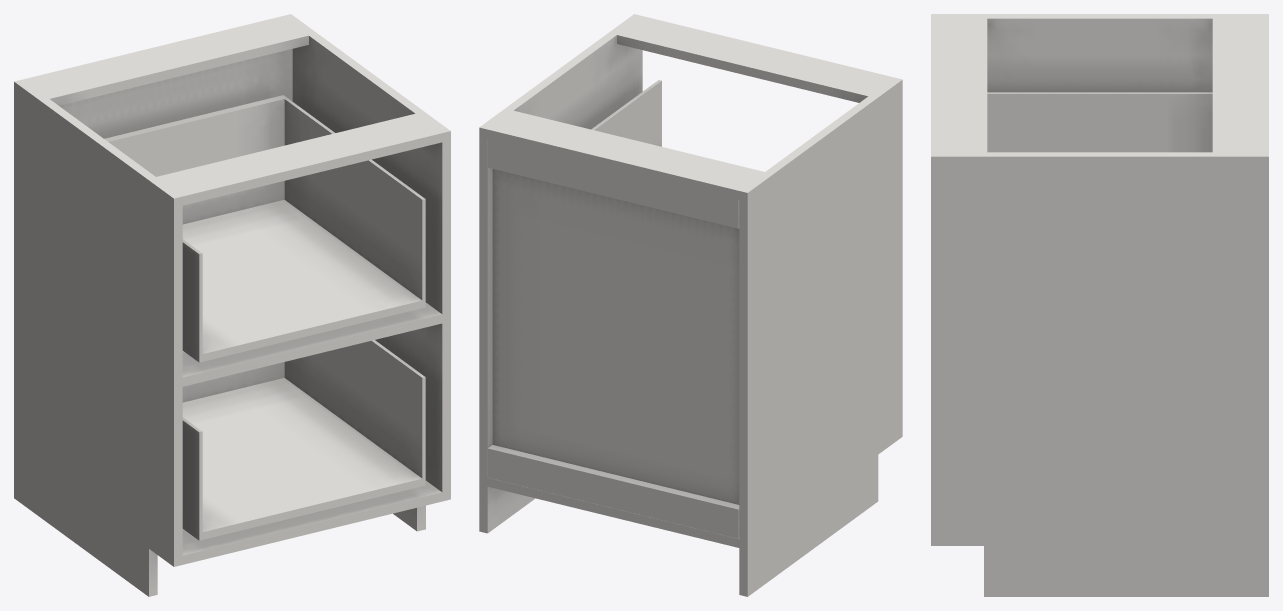
Rendered from 2-drawer-equal-base-doors-off.glb.
3 views of the same model, side by side, from view 1: azimuth 30°, elevation 25°; view 2: azimuth 150°, elevation 25°; view 3: azimuth 270°, elevation 25° (orthographic). The views are drawn at different scales.
Visible parts, largest first — view 1: part_6, part_0; view 2: part_6, part_0; view 3: part_6, part_0.
Part boxes in pixels (x1,y1,x2,y2): part_6: (14, 14, 450, 596); part_0: (104, 95, 425, 540); part_6: (479, 14, 902, 596); part_0: (591, 80, 661, 146); part_6: (931, 14, 1268, 596); part_0: (987, 92, 1212, 152).
Size of the model in its own units: 0.6096 by 0.8763 by 0.6096.
2 materials, 1 textured.
